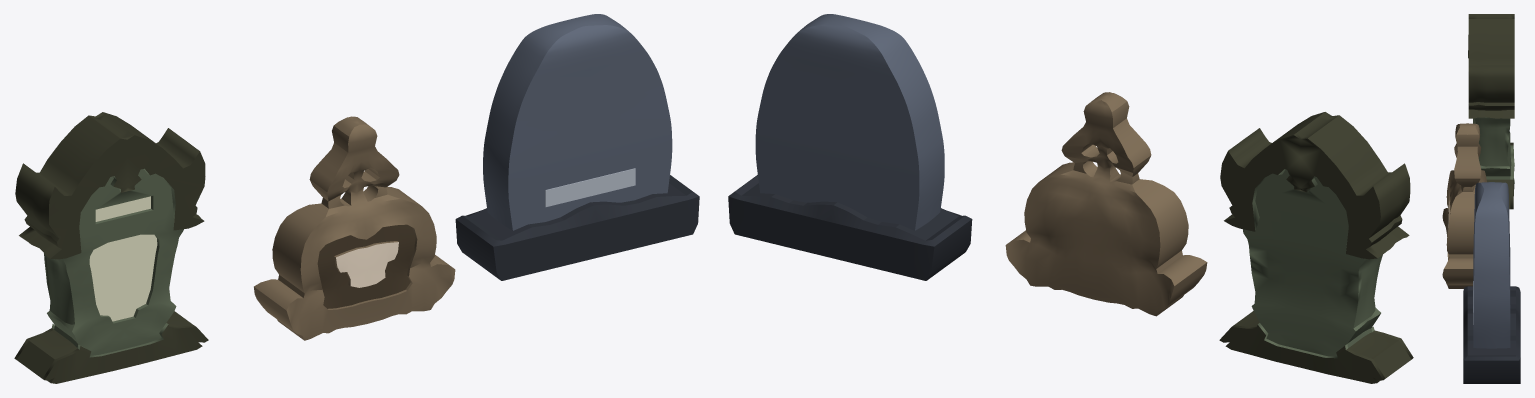
Rendered from toombs.fbx.
3 views of the same model, side by side, from view 1: azimuth 30°, elevation 25°; view 2: azimuth 150°, elevation 25°; view 3: azimuth 270°, elevation 25° (orthographic). The views are drawn at different scales.
Visible parts, largest first — view 1: Tomb_1, Tomb_3, Tomb_2; view 2: Tomb_1, Tomb_3, Tomb_2; view 3: Tomb_1, Tomb_3, Tomb_2.
Part boxes in pixels (<box>): Tomb_1: <box>455,14,699,280</box>; Tomb_3: <box>14,112,208,383</box>; Tomb_2: <box>254,116,455,340</box>; Tomb_1: <box>728,14,972,280</box>; Tomb_3: <box>1219,112,1413,383</box>; Tomb_2: <box>1005,92,1207,316</box>; Tomb_1: <box>1463,182,1520,383</box>; Tomb_3: <box>1468,14,1514,209</box>; Tomb_2: <box>1442,123,1486,288</box>.
Size of the model in its own units: 435 by 149 by 62.12.
